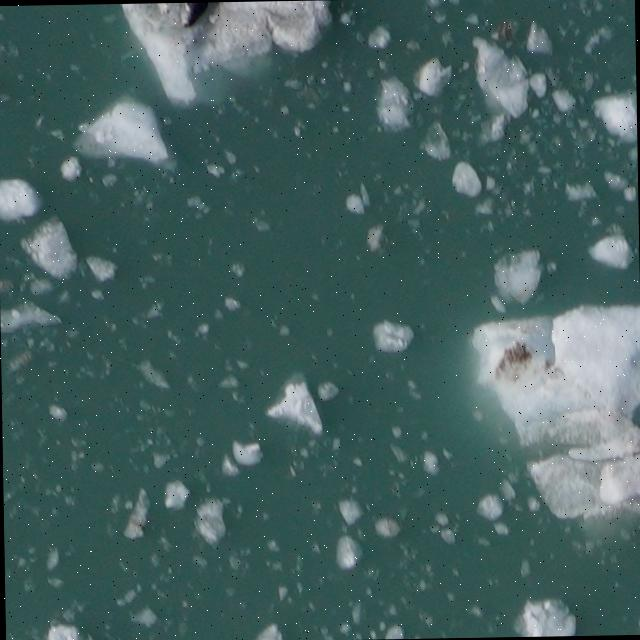seal: (176, 3, 214, 34)
